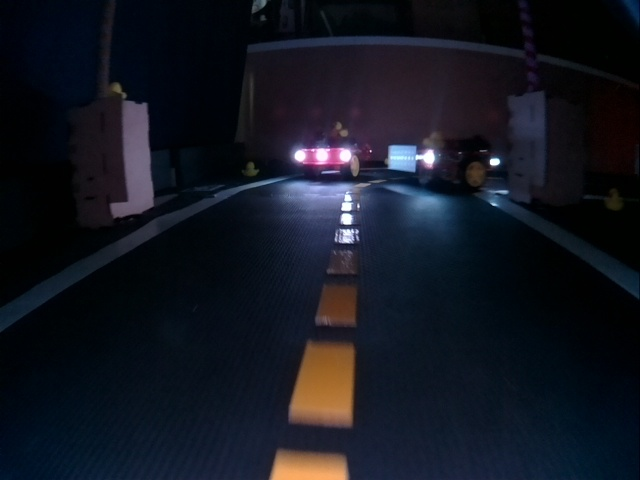Duckie: (102, 82, 126, 99), (605, 190, 623, 210), (242, 162, 258, 176)
Duckiebot: (388, 137, 499, 189), (293, 137, 370, 179)
